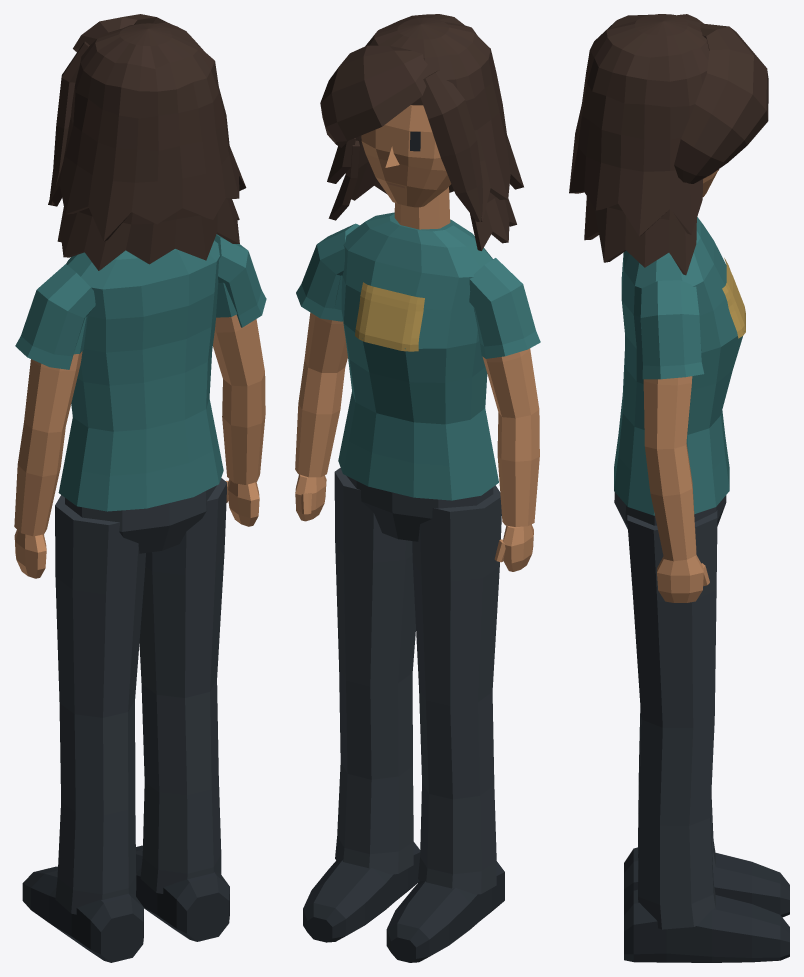
File: lwf_attendee_female_relaxed_v2.glb
3 renders of one model, left to right at view 1: azimuth 30°, elevation 25°; view 2: azimuth 150°, elevation 25°; view 3: azimuth 270°, elevation 25°, orthographic. The views are drawn at different scales.
Visible parts, largest first — view 1: Attendee_female_relaxed_v6; view 2: Attendee_female_relaxed_v6; view 3: Attendee_female_relaxed_v6.
Boxes of the visible parts, box(x1,y1,x2,y2) form: Attendee_female_relaxed_v6: box(14, 14, 266, 962); Attendee_female_relaxed_v6: box(295, 14, 540, 962); Attendee_female_relaxed_v6: box(569, 14, 789, 962).
Bounding box in the file's own units: 0.4694 × 1.7 × 0.3721.
1 material, 1 textured.
